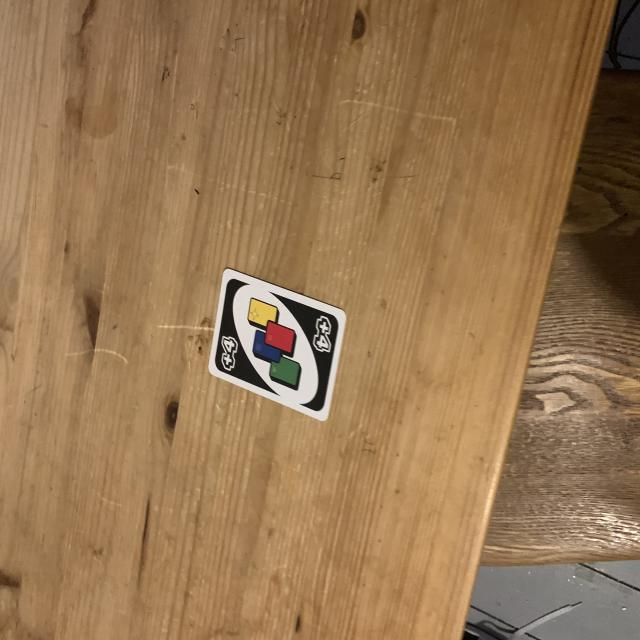lcolor-400: (216, 333, 242, 377)
